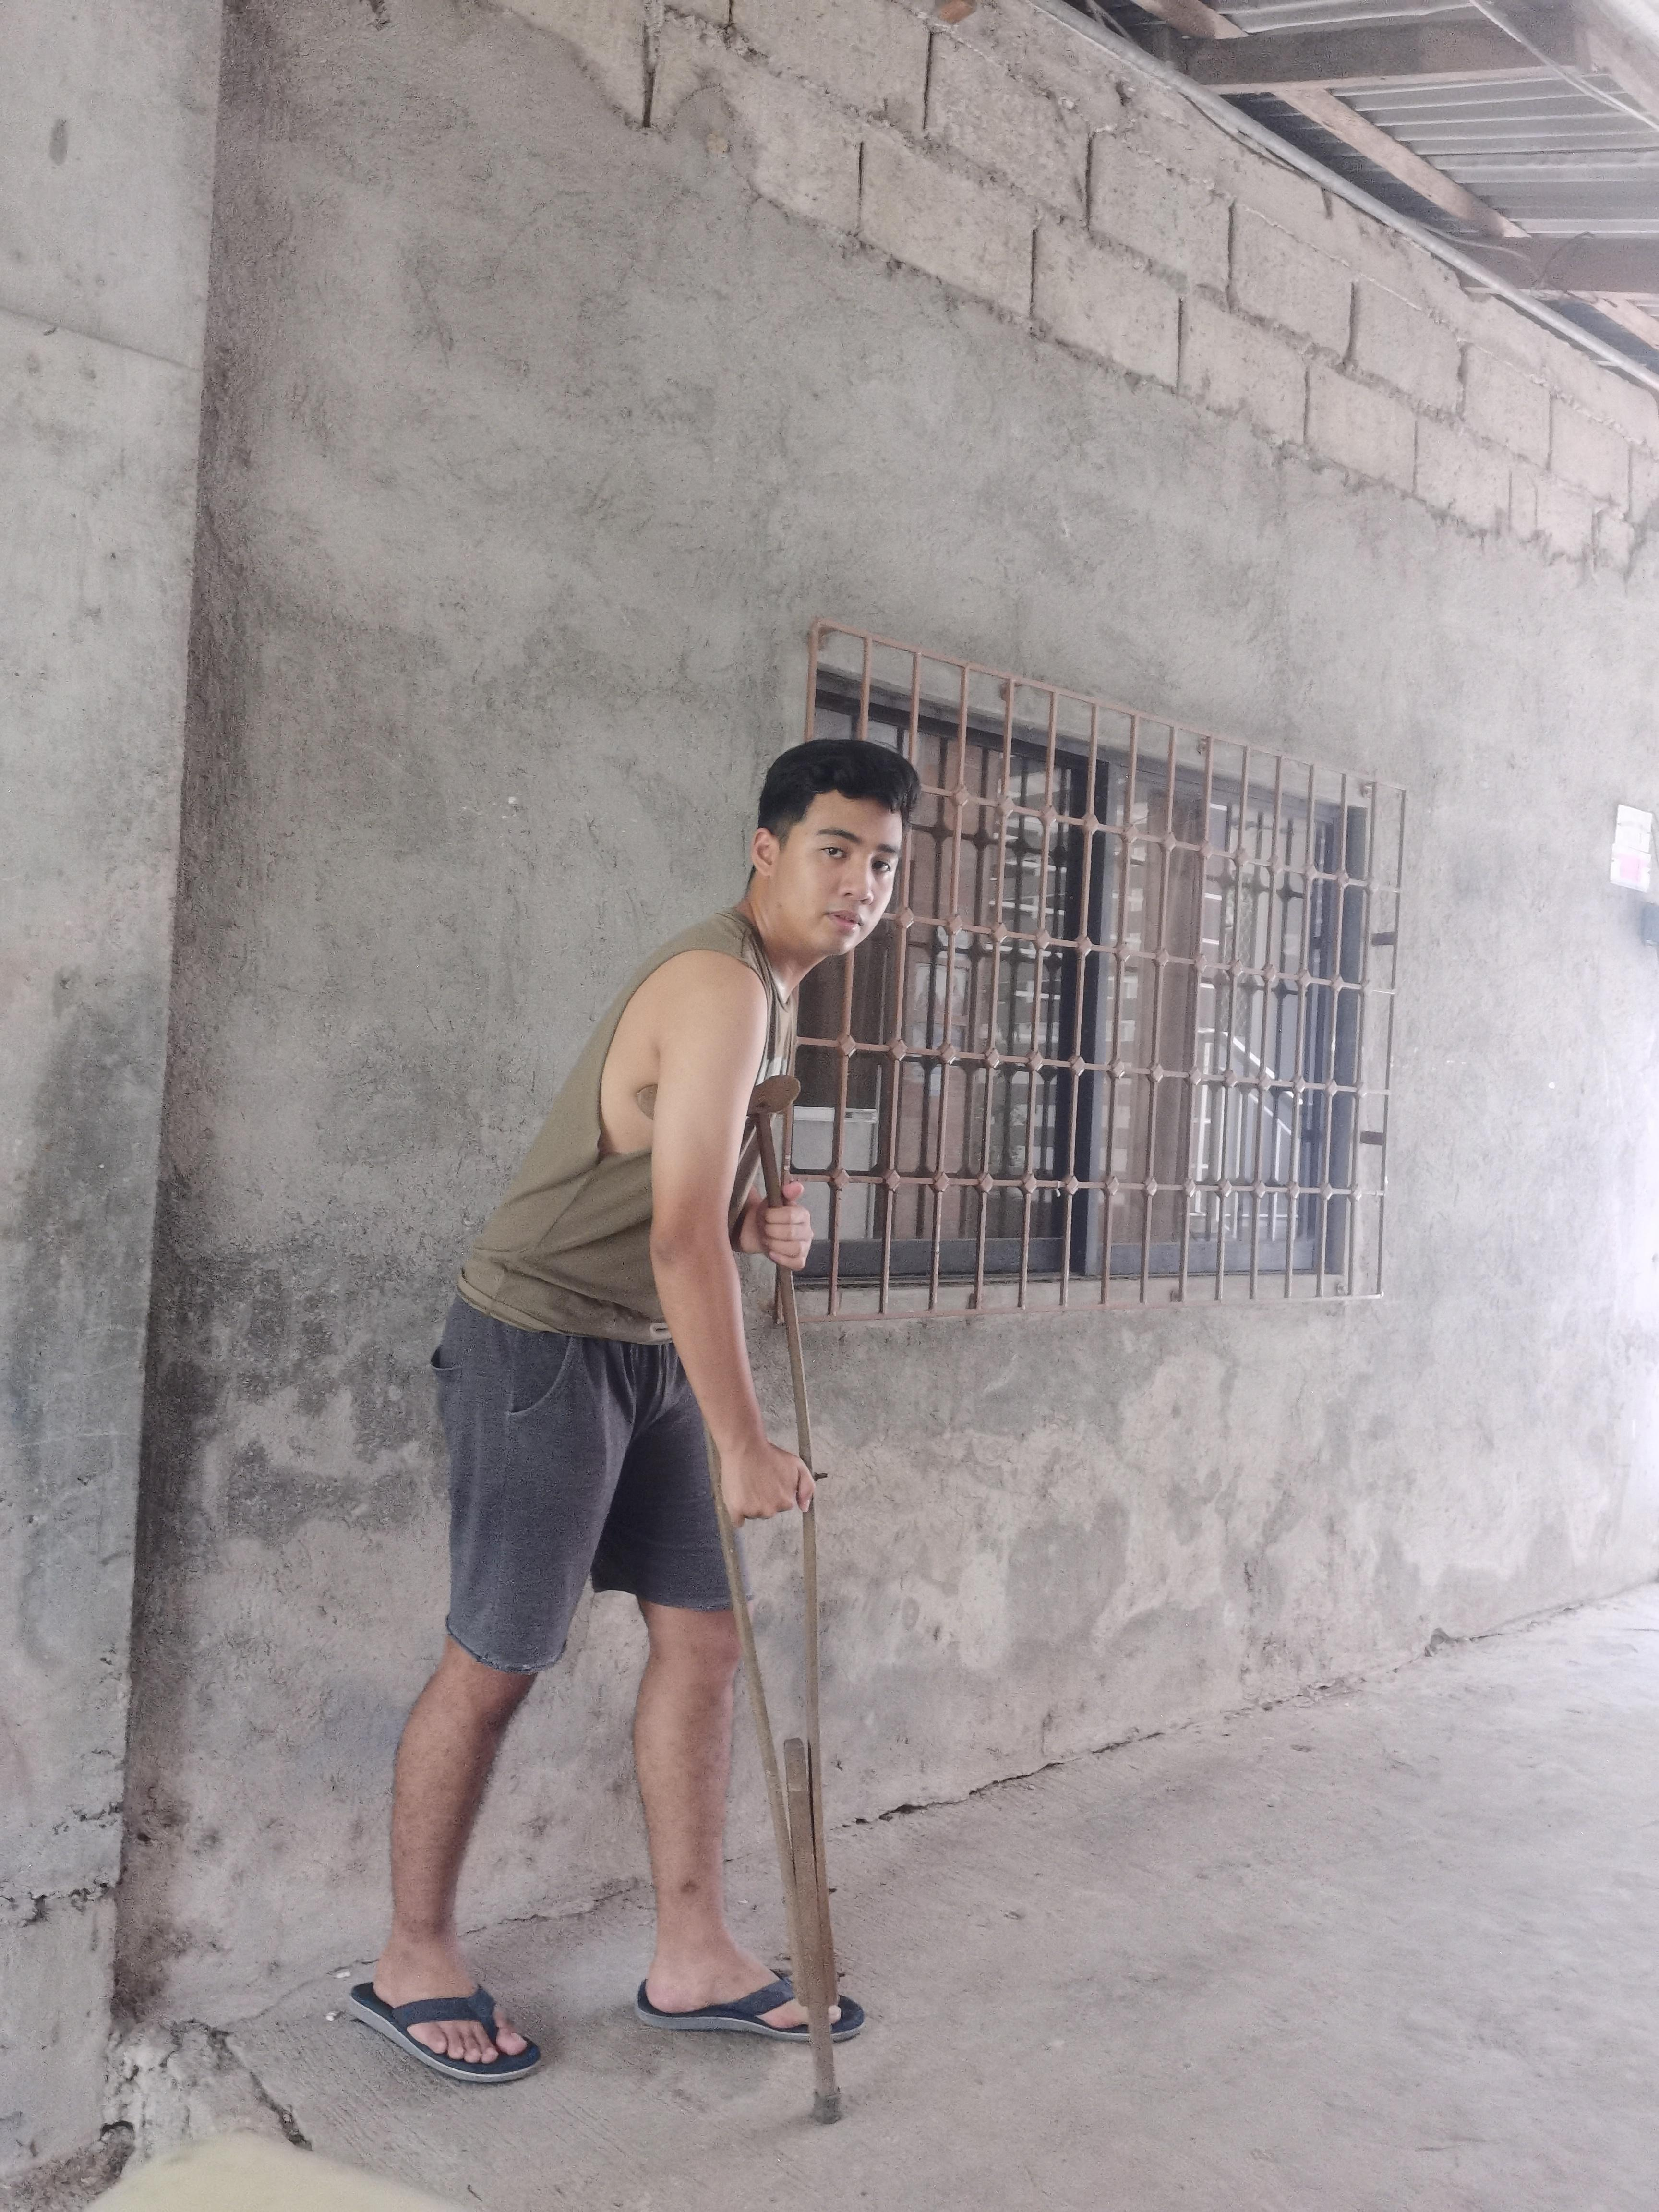crutches: (350, 738, 927, 2127)
